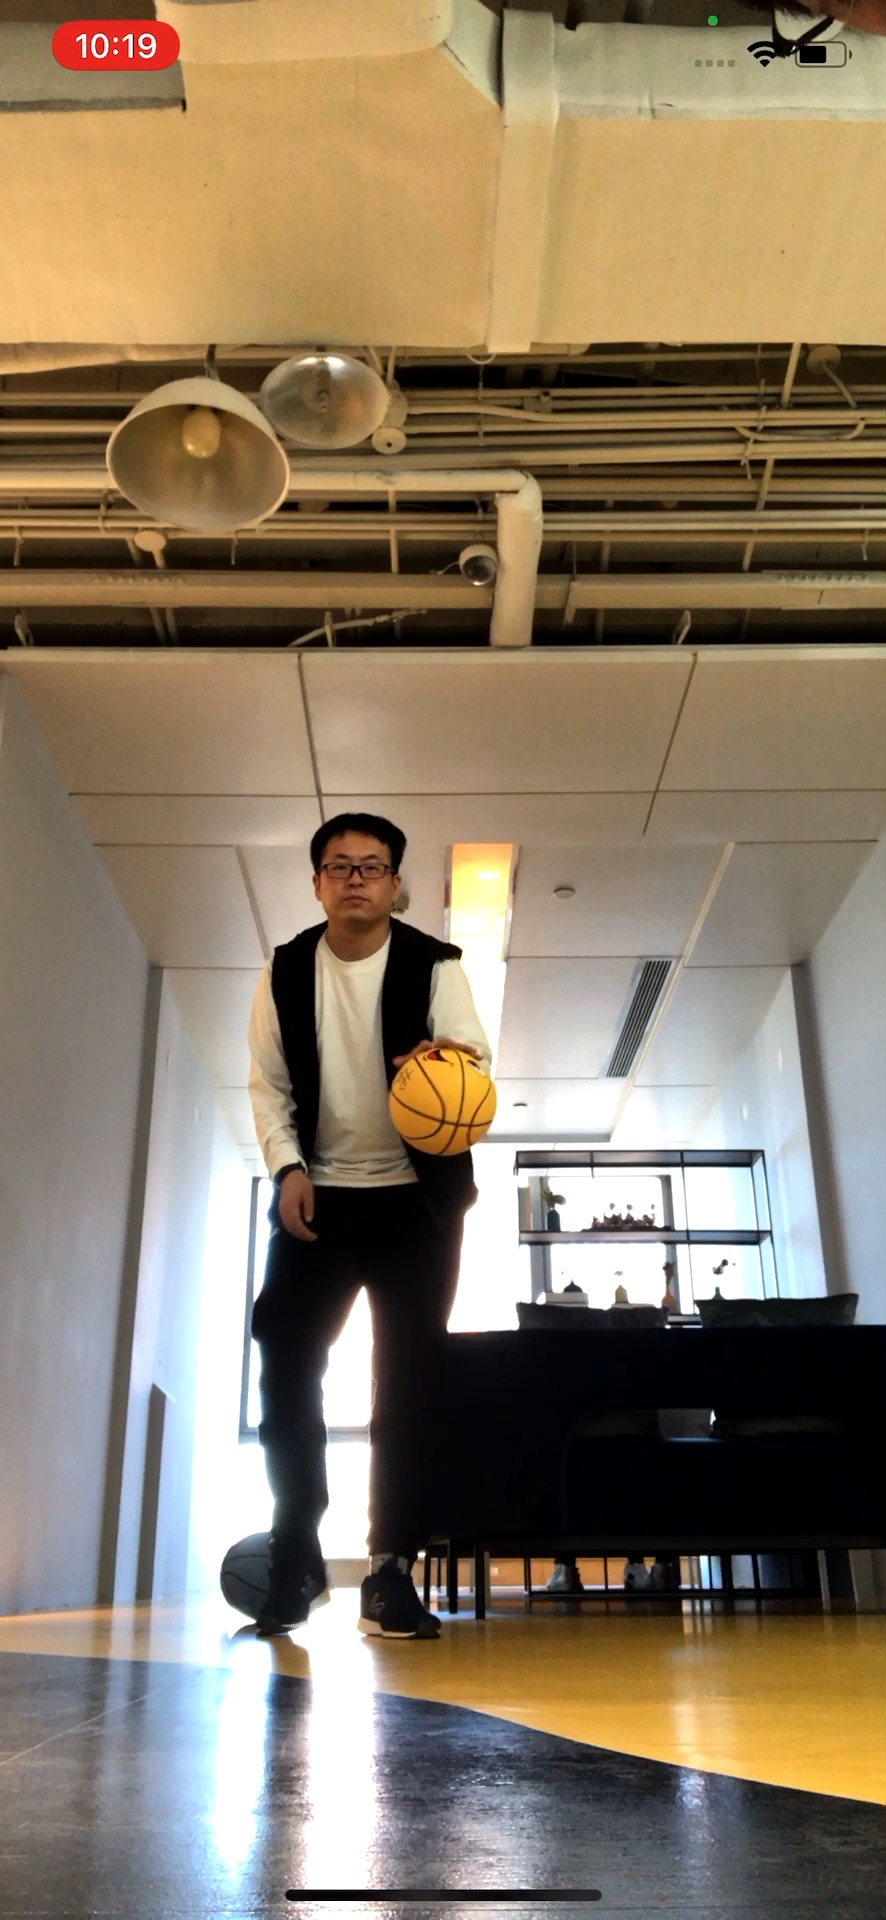ball: (388, 1041, 498, 1157), (221, 1531, 281, 1625)
